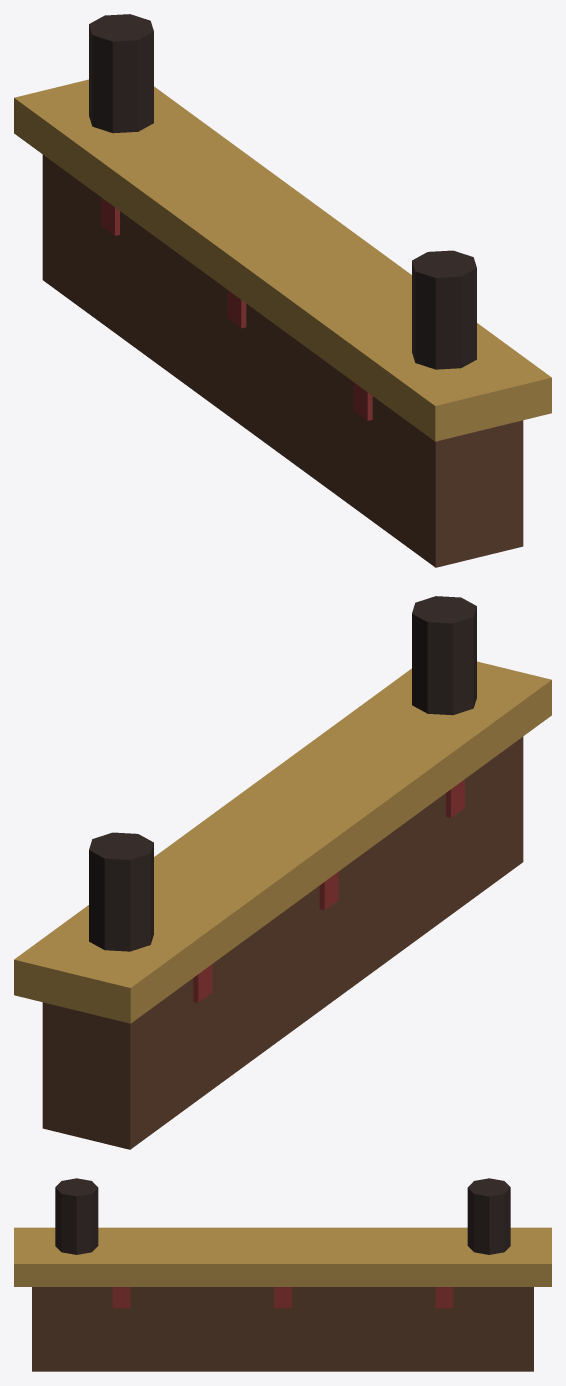
File: PirateCove_TideDivider_Standard.glb
3 renders of one model, top to bottom at view 1: azimuth 30°, elevation 25°; view 2: azimuth 150°, elevation 25°; view 3: azimuth 270°, elevation 25°, orthographic. The views are drawn at different scales.
Parts seen in each view (by area): view 1: PirateCove_TideDivider_Standard; view 2: PirateCove_TideDivider_Standard; view 3: PirateCove_TideDivider_Standard.
Part boxes in pixels (x1,y1,x2,y2): PirateCove_TideDivider_Standard: [14, 14, 551, 567]; PirateCove_TideDivider_Standard: [14, 596, 551, 1149]; PirateCove_TideDivider_Standard: [14, 1178, 551, 1371].
Size of the model in its own units: 0.48 by 1.05 by 3.
